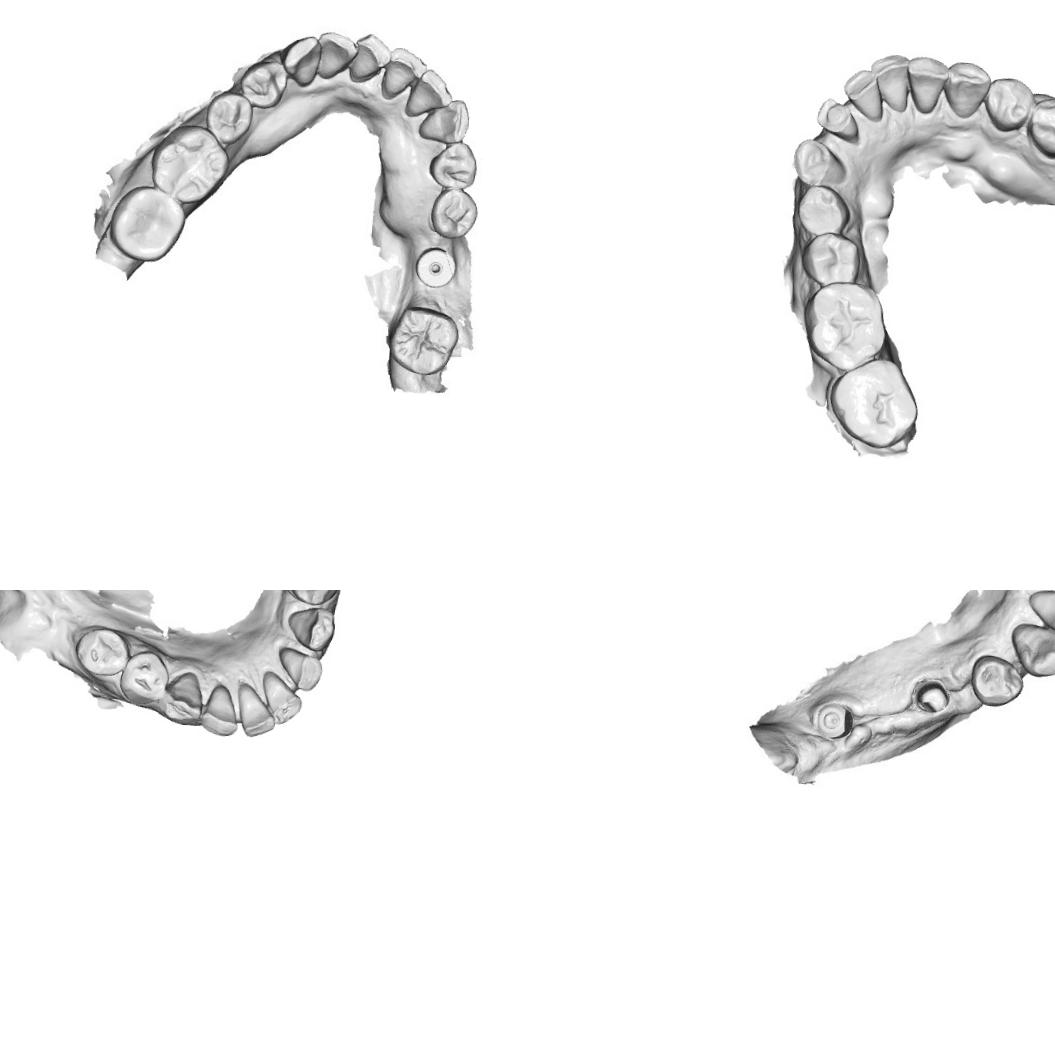abutment: (912, 674, 955, 721)
canine: (788, 135, 853, 188), (940, 57, 991, 121), (1003, 621, 1055, 681), (155, 669, 204, 726), (416, 99, 470, 148), (280, 32, 322, 90), (285, 605, 336, 652)
implant: (810, 688, 857, 746), (412, 242, 456, 290)
incisor: (902, 51, 951, 117), (865, 51, 914, 115), (837, 66, 888, 122), (257, 669, 304, 726), (233, 680, 278, 739), (813, 94, 864, 142), (198, 682, 241, 738), (382, 38, 422, 98), (275, 646, 323, 692), (316, 28, 356, 78), (347, 29, 384, 82), (404, 70, 446, 116), (1023, 590, 1055, 634)
molar: (823, 350, 923, 452), (803, 278, 892, 373), (147, 118, 233, 208), (109, 182, 184, 268), (390, 306, 458, 374)
premolar: (798, 228, 866, 290), (979, 72, 1035, 134), (792, 184, 854, 238), (968, 654, 1024, 712), (116, 648, 171, 706), (72, 625, 132, 678), (205, 89, 252, 143), (429, 142, 479, 191), (1023, 93, 1055, 162), (434, 185, 476, 237), (241, 60, 285, 103), (282, 590, 341, 605)
